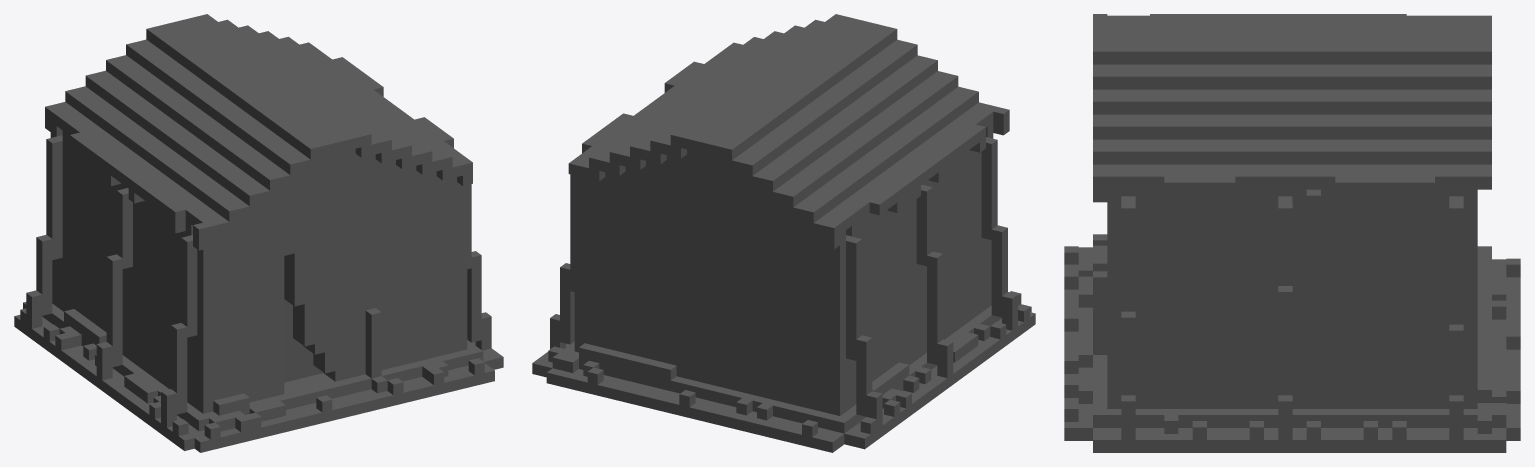
The model's file is bld_house7c.obj.
3 views of the same model, side by side, from view 1: azimuth 30°, elevation 25°; view 2: azimuth 150°, elevation 25°; view 3: azimuth 270°, elevation 25° (orthographic). The views are drawn at different scales.
Size of the model in its own units: 32 by 25 by 32.
